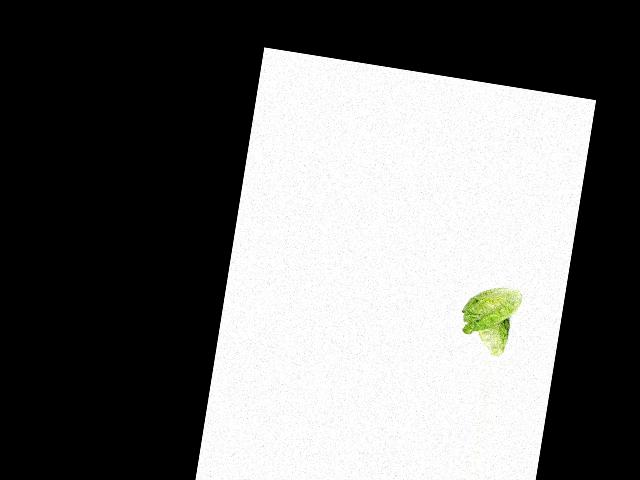lettuce: (473, 313, 514, 359)
